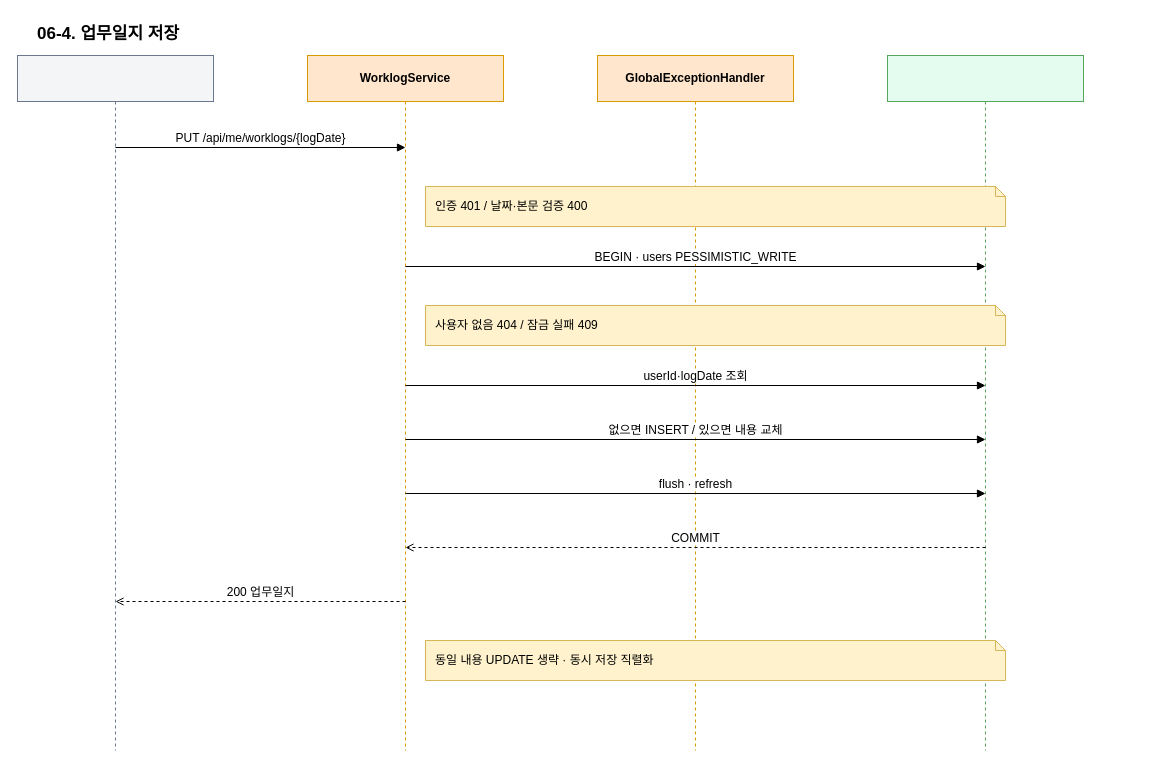
The diagram is 1153 pixels wide and 768 high, and some of its shapes have lost their labels. Each missing label, with the box of its shape:
FE / Controller: (16, 54, 214, 750)
PostgreSQL: (886, 54, 1084, 750)
